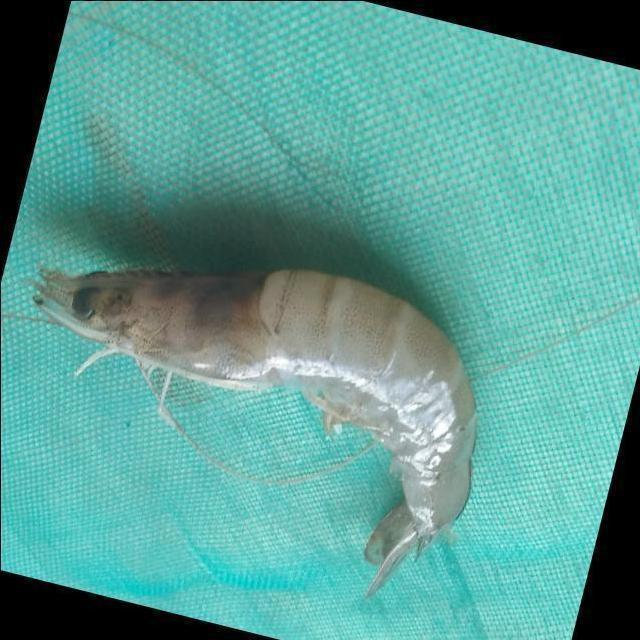shrimp: (32, 269, 475, 596)
